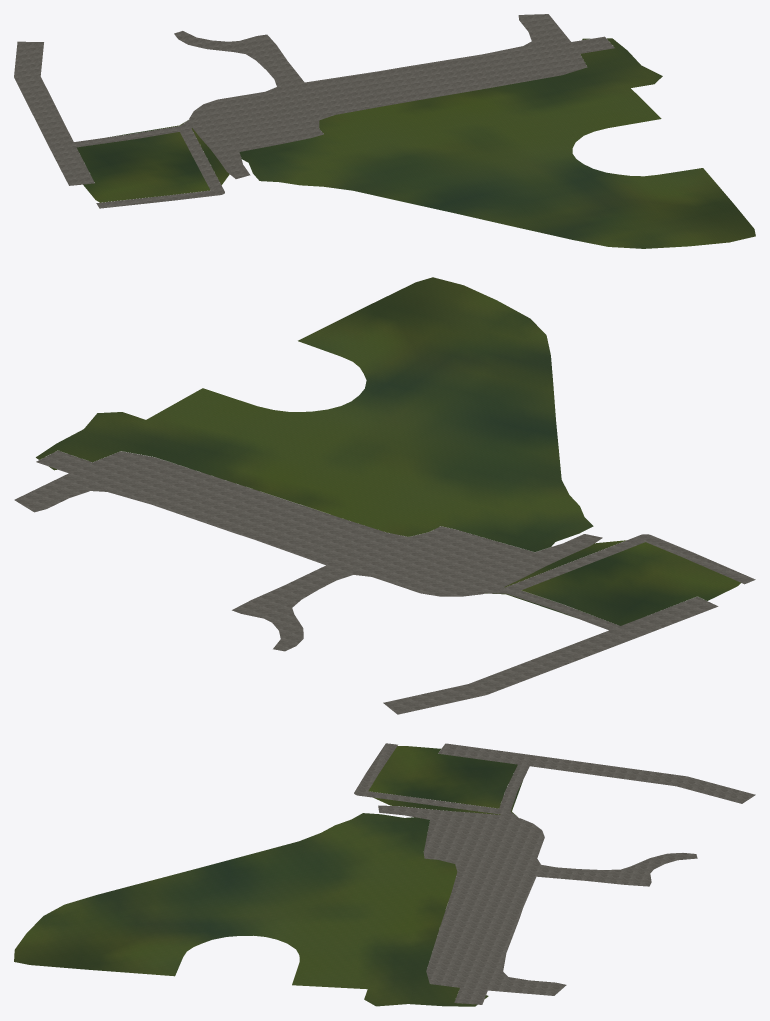
The picture shows the model from 3 angles, top to bottom: view 1: azimuth 30°, elevation 25°; view 2: azimuth 150°, elevation 25°; view 3: azimuth 270°, elevation 25°; orthographic projection. The views are drawn at different scales.
Visible parts, largest first — view 1: Empress Lawn turf, Dalhousie court granite; view 2: Empress Lawn turf, Dalhousie court granite; view 3: Empress Lawn turf, Dalhousie court granite.
Boxes of the visible parts, box(x1,y1,x2,y2) form: Empress Lawn turf: box(76, 38, 755, 248); Dalhousie court granite: box(14, 14, 614, 208); Empress Lawn turf: box(36, 277, 740, 625); Dalhousie court granite: box(14, 450, 755, 714); Empress Lawn turf: box(14, 746, 522, 1006); Dalhousie court granite: box(354, 743, 755, 1004).
Size of the model in its own units: 136 by 0.1698 by 161.
Materials: 2 (2 with a texture image).
